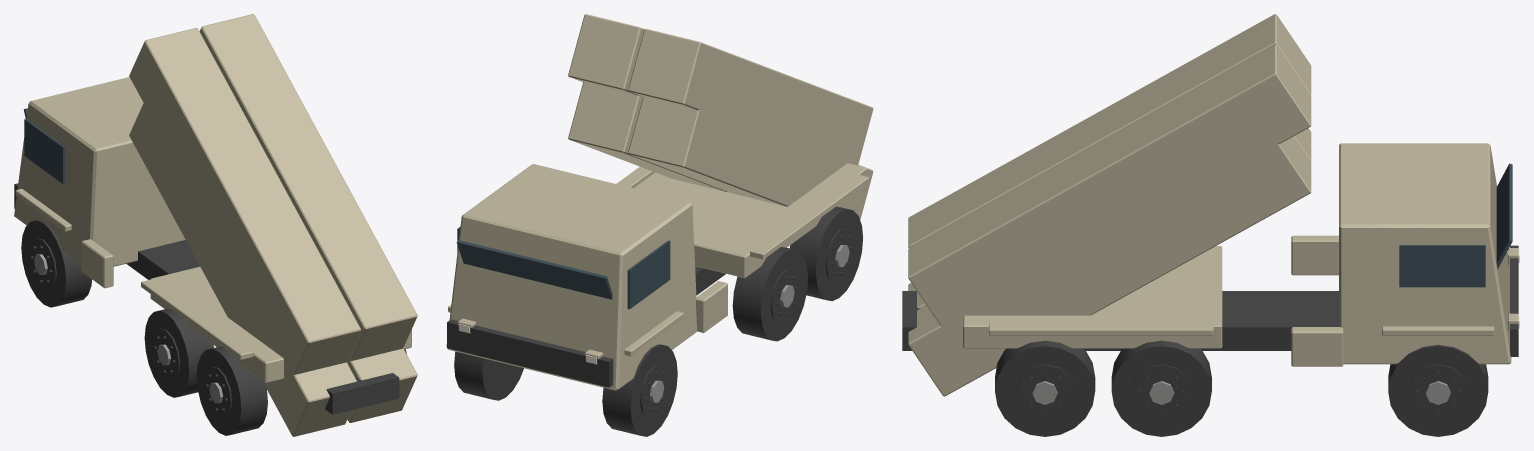
Rendered from usa_aa_pac3.glb.
3 renders of one model, left to right at view 1: azimuth 30°, elevation 25°; view 2: azimuth 150°, elevation 25°; view 3: azimuth 270°, elevation 25°, orthographic. The views are drawn at different scales.
Visible parts, largest first — view 1: barrel, body, wheel_4, wheel_2, turret, wheel_0; view 2: body, barrel, turret, wheel_2, wheel_0, wheel_4, wheel_1; view 3: barrel, body, turret, wheel_3, wheel_5, wheel_1.
Boxes of the visible parts, box(x1,y1,x2,y2) form: barrel: box(129, 14, 417, 436); body: box(14, 77, 399, 414); wheel_4: box(196, 346, 267, 435); wheel_2: box(144, 308, 213, 397); turret: box(150, 266, 411, 382); wheel_0: box(21, 220, 91, 307); body: box(446, 164, 869, 390); barrel: box(568, 14, 873, 219); turret: box(634, 163, 866, 278); wheel_2: box(732, 247, 808, 341); wheel_0: box(602, 344, 677, 436); wheel_4: box(789, 206, 862, 301); wheel_1: box(454, 351, 523, 400); barrel: box(908, 14, 1311, 396); body: box(902, 143, 1519, 366); turret: box(963, 246, 1222, 348); wheel_3: box(1111, 340, 1211, 436); wheel_5: box(995, 340, 1095, 436); wheel_1: box(1388, 344, 1488, 436).
Bounding box in the file's own units: 2.65 × 4.44 × 7.14.
